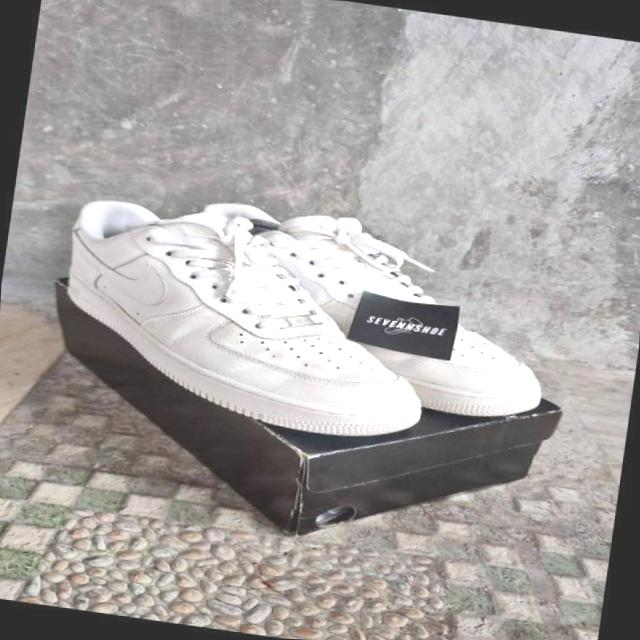nike_fake_airforce: (49, 192, 452, 452), (180, 197, 566, 428)
